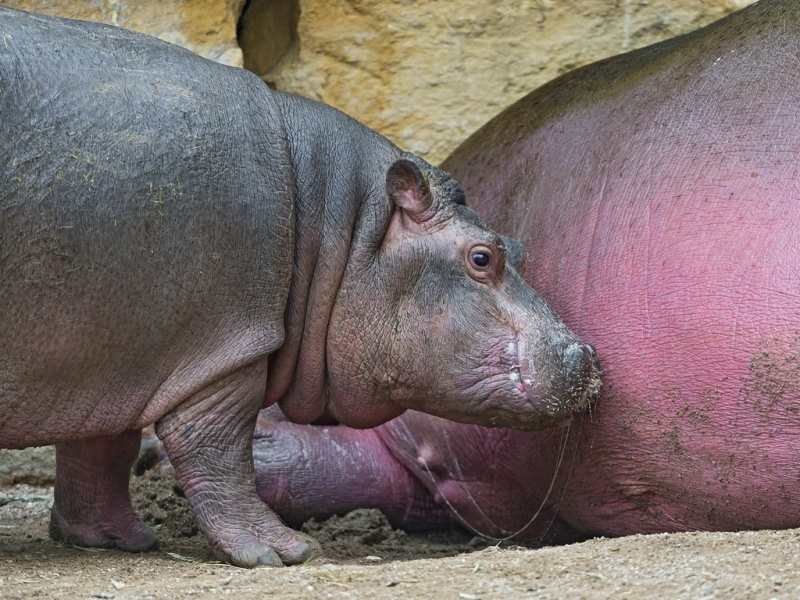hipopotamo: (2, 0, 617, 580)
